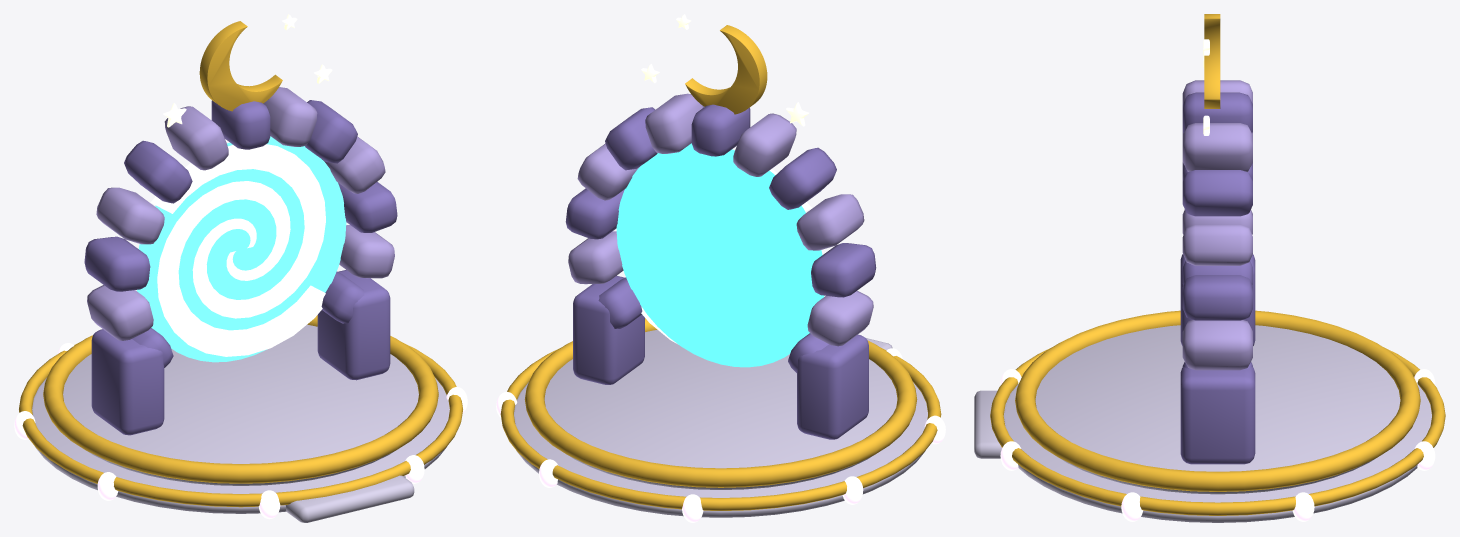
The model's file is portals.glb.
3 renders of one model, left to right at view 1: azimuth 30°, elevation 25°; view 2: azimuth 150°, elevation 25°; view 3: azimuth 270°, elevation 25°, orthographic. The views are drawn at different scales.
Visible parts, largest first — view 1: Portal_B, Portal_B_swirl; view 2: Portal_B, Portal_B_swirl; view 3: Portal_B.
Boxes of the visible parts, x1,y1,x2,y2 form: Portal_B: (14,14,467,522); Portal_B_swirl: (137,136,346,362); Portal_B: (496,14,945,522); Portal_B_swirl: (616,143,824,367); Portal_B: (974,14,1445,522).
Size of the model in its own units: 4.02 by 4.05 by 4.16.
